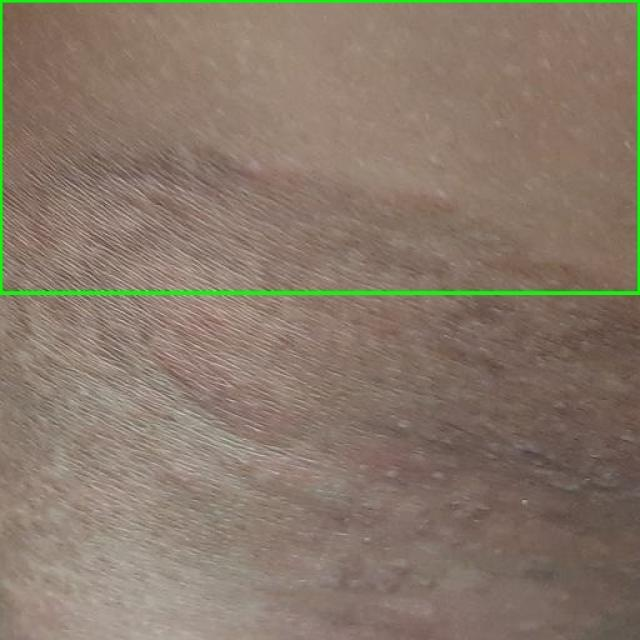Tinea Corporis: (0, 0, 639, 292)
